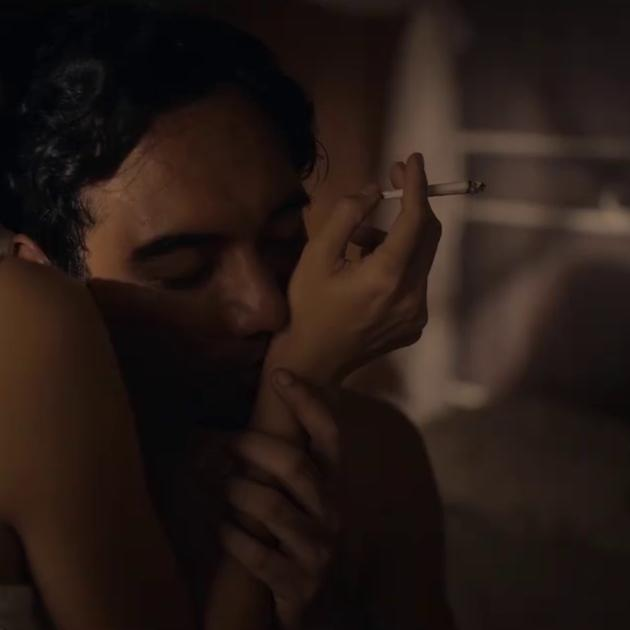cigarette: (373, 170, 489, 204)
